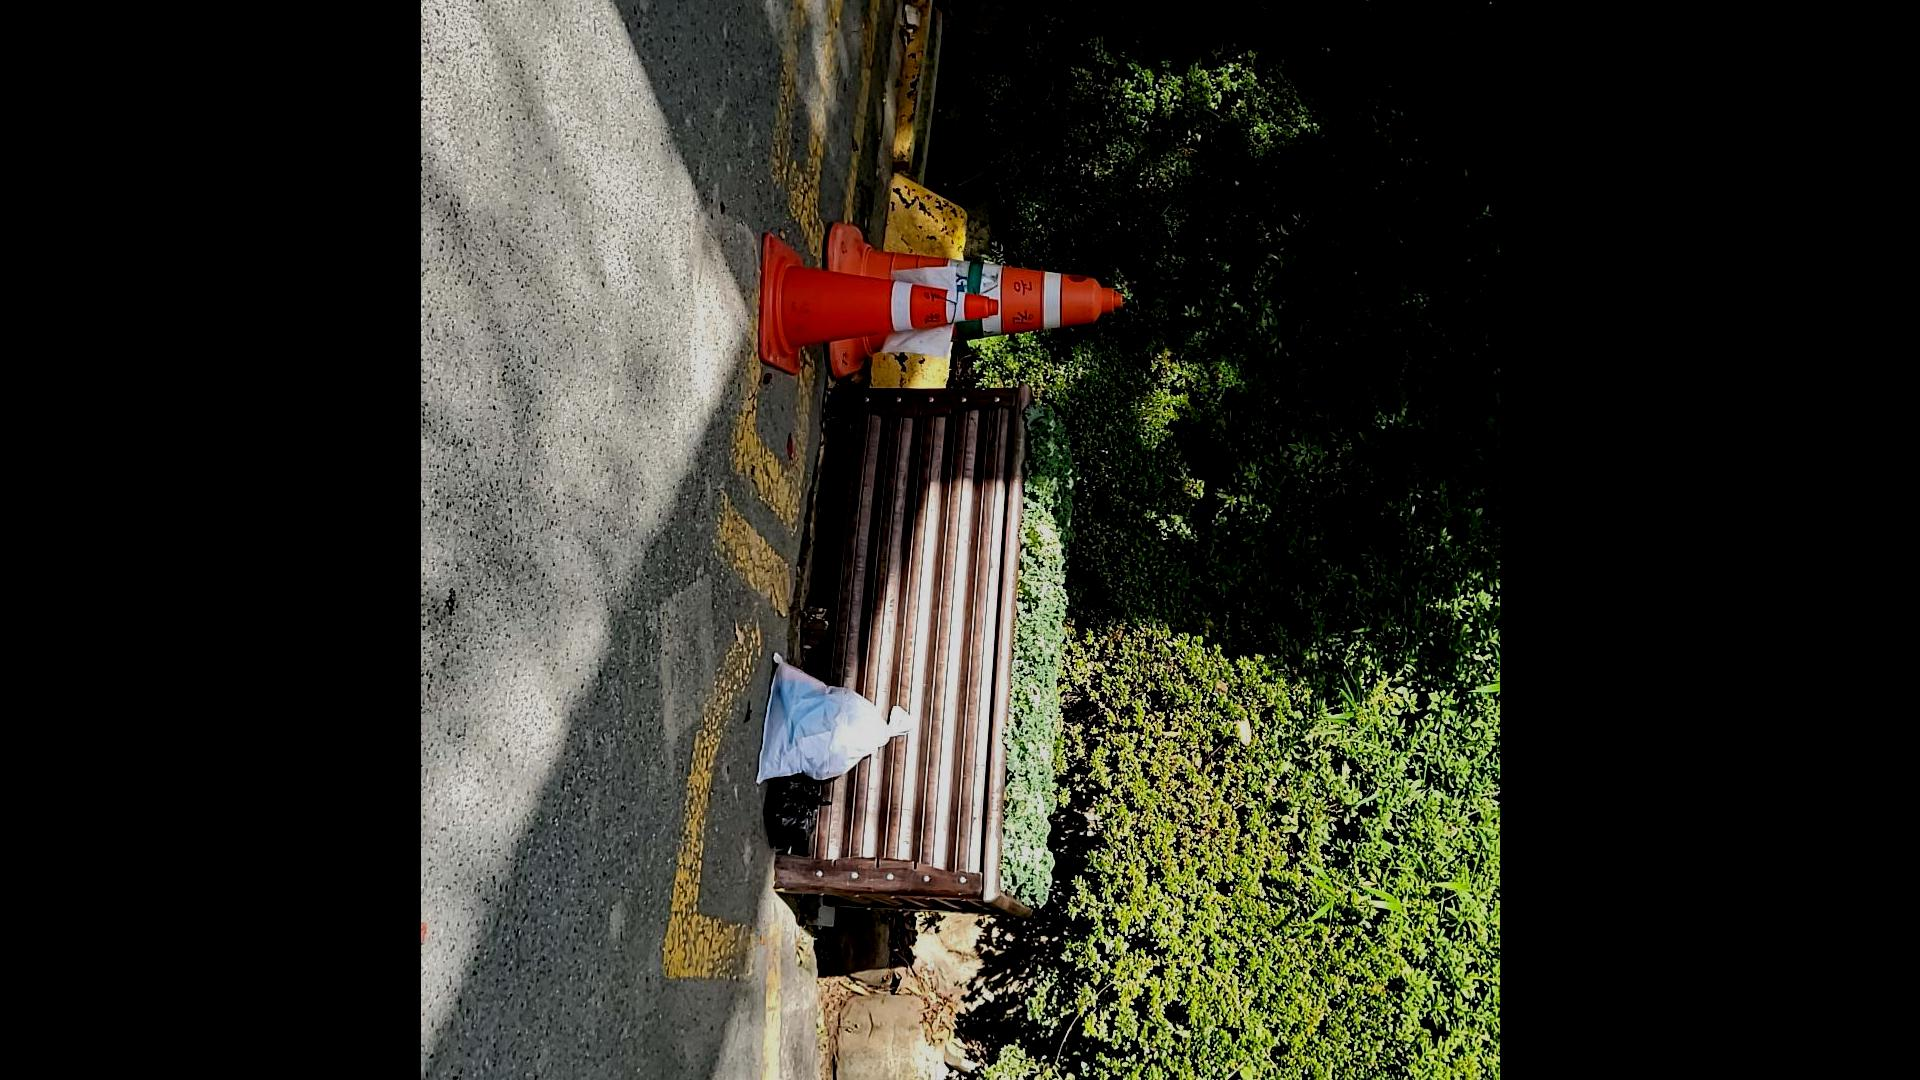black_bag: (760, 767, 835, 851)
white_bag: (752, 649, 923, 789)
